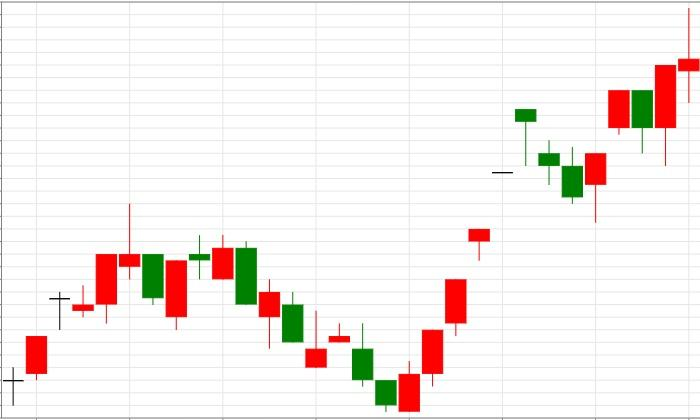evening_star_fall: (4, 203, 163, 404)
three_white_soldiers_rise: (211, 235, 467, 412)
